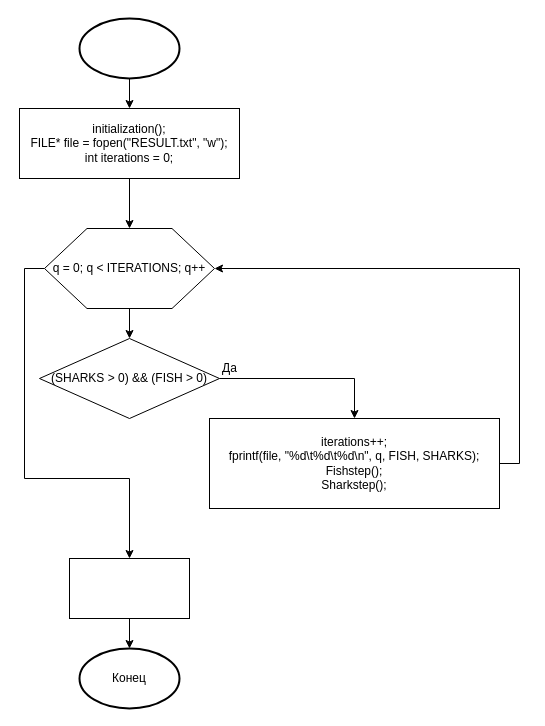
Image size: 545x726. Some labels were removed from this diagram. Here are the shapes that lost their labels. From the top down, the centre of each, then its label:
point 129,48: Начало
point 129,588: fclose(file); return 0;
